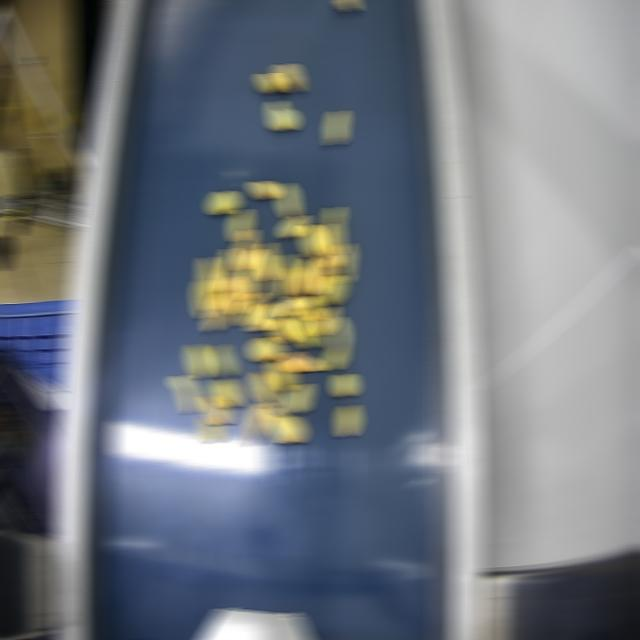Baby Potato: (265, 408, 304, 443), (239, 248, 264, 299), (324, 317, 347, 370), (288, 309, 319, 348), (199, 256, 220, 309), (171, 375, 198, 413), (214, 248, 237, 291), (206, 292, 231, 331), (252, 370, 277, 407), (237, 292, 264, 326), (318, 224, 339, 267), (248, 402, 269, 444), (248, 303, 279, 331), (234, 229, 255, 270), (274, 254, 293, 299), (282, 352, 323, 372), (211, 379, 240, 407), (188, 343, 211, 378), (298, 257, 319, 295), (225, 276, 246, 314), (274, 64, 301, 93), (325, 208, 342, 254), (269, 360, 294, 391), (250, 336, 281, 361), (211, 344, 235, 376), (269, 102, 296, 130), (312, 256, 331, 295), (286, 385, 311, 414), (204, 395, 229, 424), (303, 224, 324, 258), (321, 274, 344, 305), (337, 404, 358, 437), (335, 243, 352, 283), (270, 318, 297, 343), (209, 192, 238, 215), (313, 306, 336, 335), (278, 183, 297, 218), (258, 242, 275, 280), (278, 296, 307, 317), (195, 280, 210, 319), (232, 208, 249, 241), (329, 110, 345, 145), (333, 373, 356, 397), (283, 216, 306, 239), (302, 295, 323, 320), (259, 72, 282, 94), (202, 416, 221, 442), (288, 266, 305, 295), (253, 180, 278, 199), (338, 0, 357, 12)
